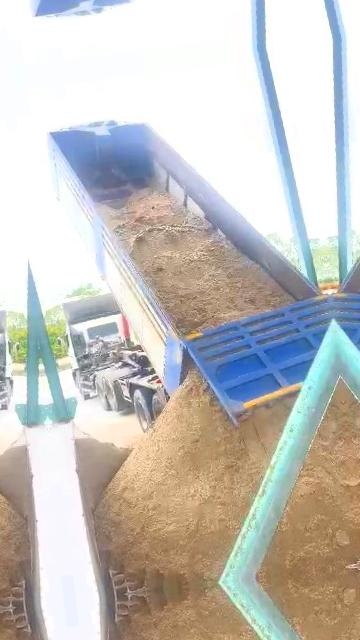sand: (96, 371, 292, 590), (100, 189, 292, 334), (263, 381, 360, 576), (75, 427, 130, 509)
